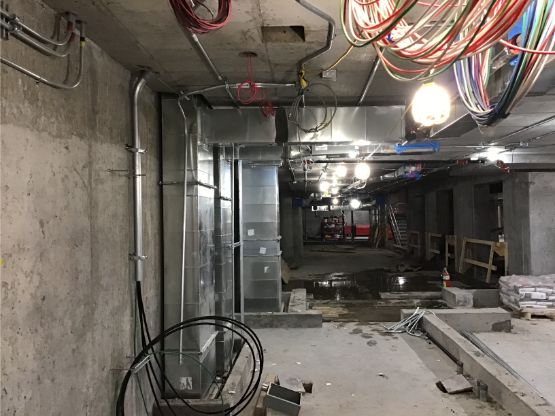Duct: (146, 78, 251, 405), (193, 94, 409, 151), (234, 127, 292, 318), (422, 89, 486, 143)
